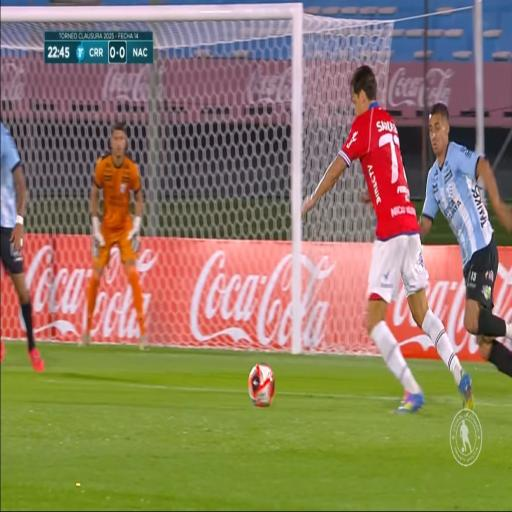Ball: (244, 355, 276, 411)
Goalkeeper: (83, 125, 134, 355)
Player: (428, 93, 500, 387), (354, 62, 412, 411), (0, 104, 36, 367)
